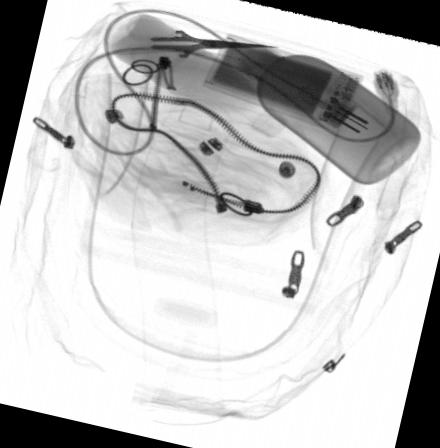Powerbank: (200, 29, 362, 130)
Scissors: (124, 10, 288, 79)
